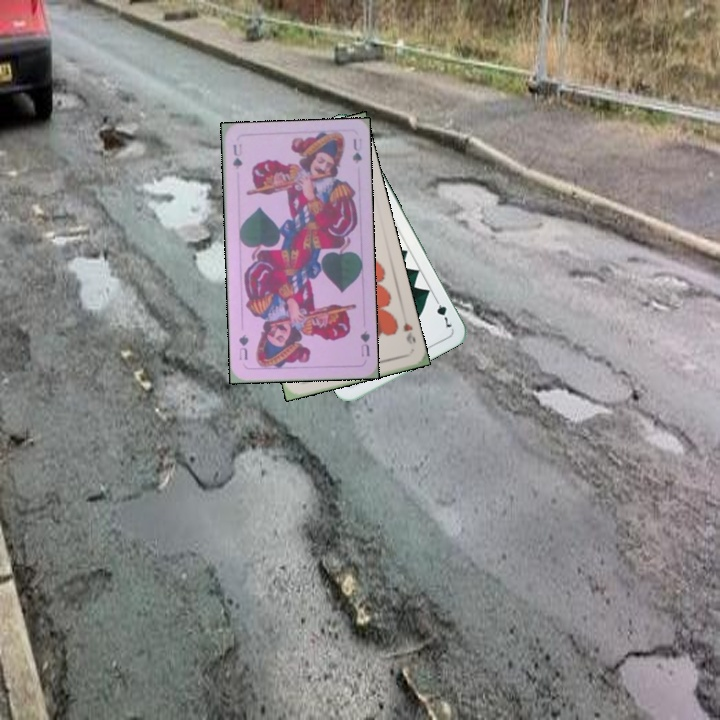G7: (430, 293, 455, 331)
GU: (356, 326, 372, 359), (229, 140, 245, 172)
H9: (399, 318, 418, 347)
